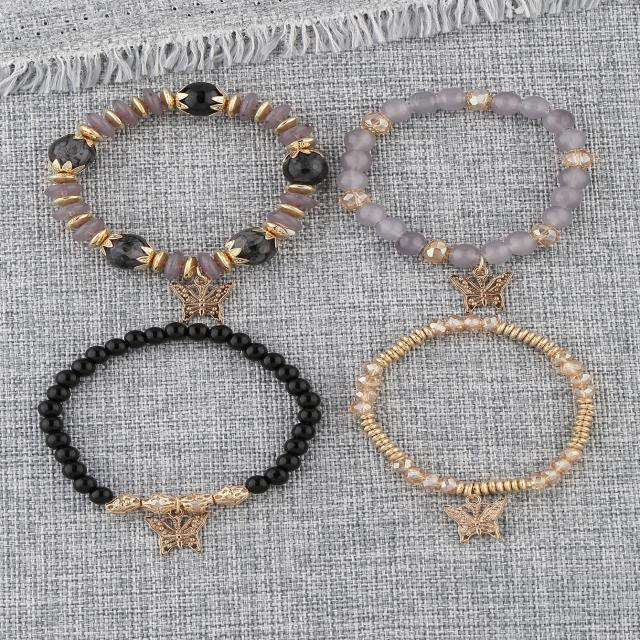bracelet: (0, 293, 336, 601), (0, 27, 321, 315), (315, 37, 640, 308), (346, 303, 640, 544)
